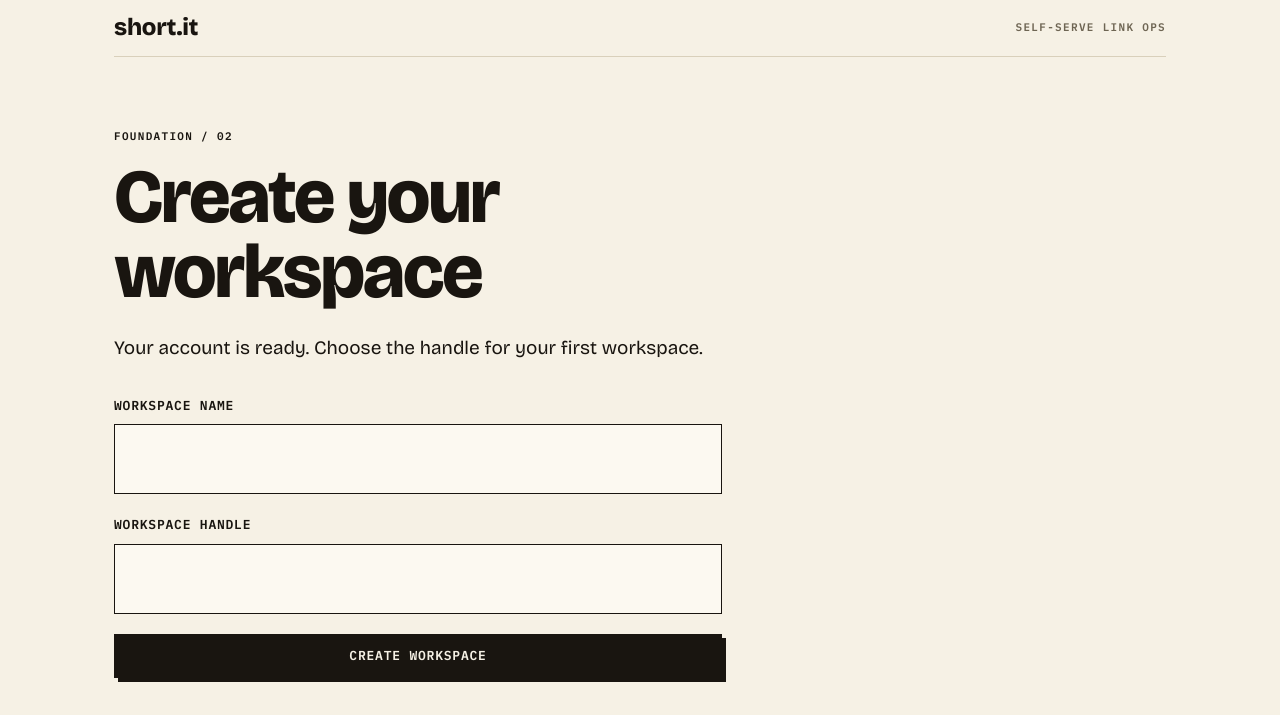
App › lets an authenticated user retry workspace creation after a recoverable failure
expect the heading "Create your workspace" is shown: met, box [114,151,499,318]
In the field labelled "Workspace name": coordinates (418, 459) [114,424,722,494], type "Ada Studio"
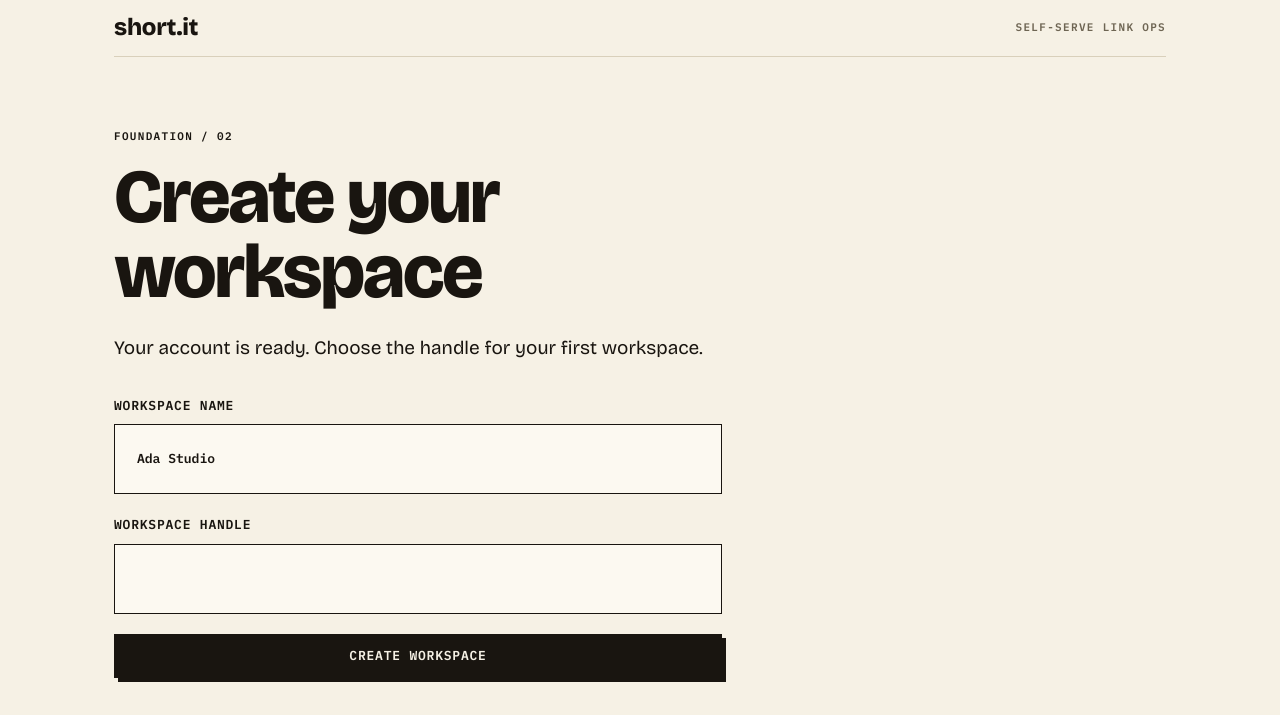
In the field labelled "Workspace handle": coordinates (418, 579) [114,544,722,614], type "app"
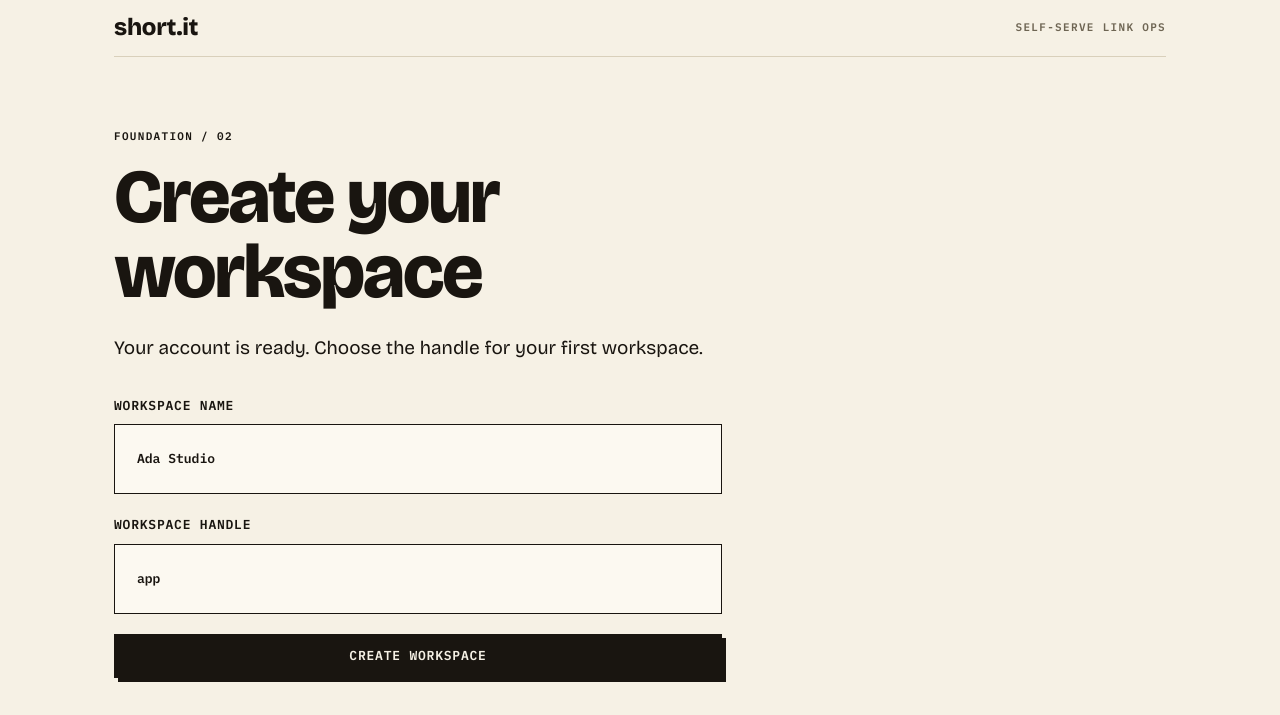
Submit the form "Create workspace", box [114,395,722,678]
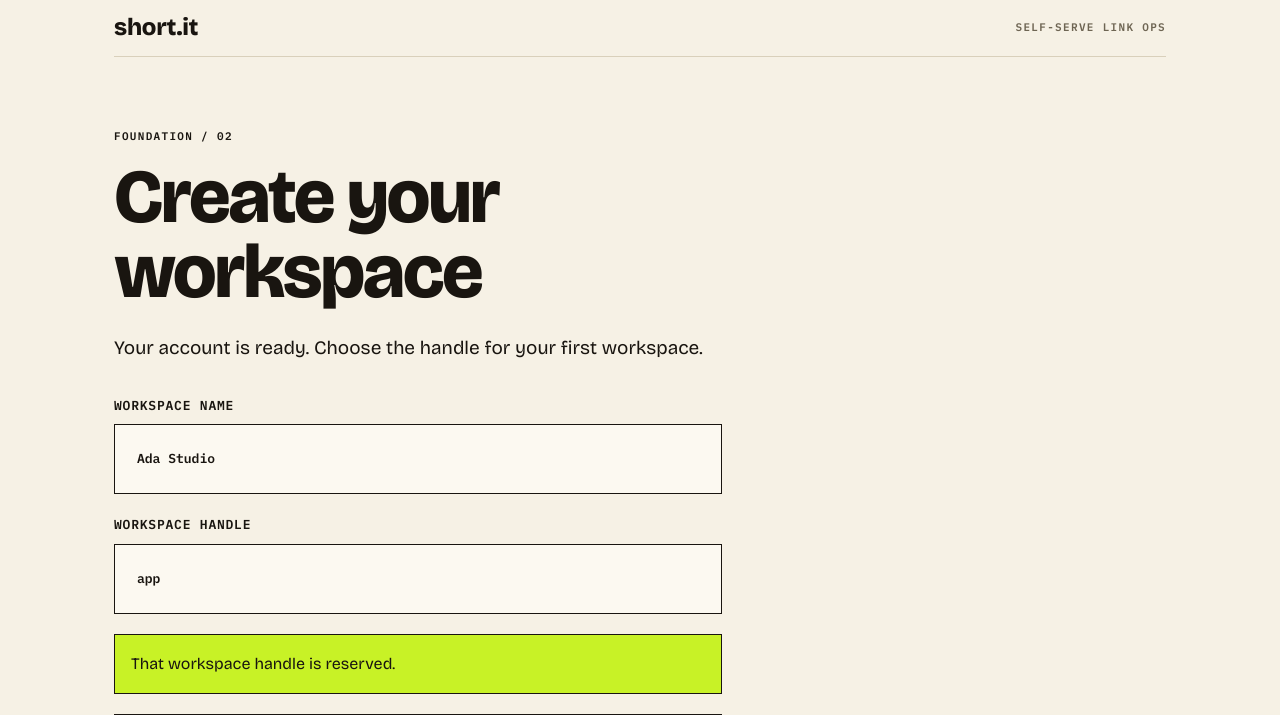
expect the message reads "That workspace handle is reserved.": met, box [131,654,395,673]
Replace the text in the field labelled "Workspace handle" with "ada": coordinates (418, 579) [114,544,722,614]
(page scrolled)
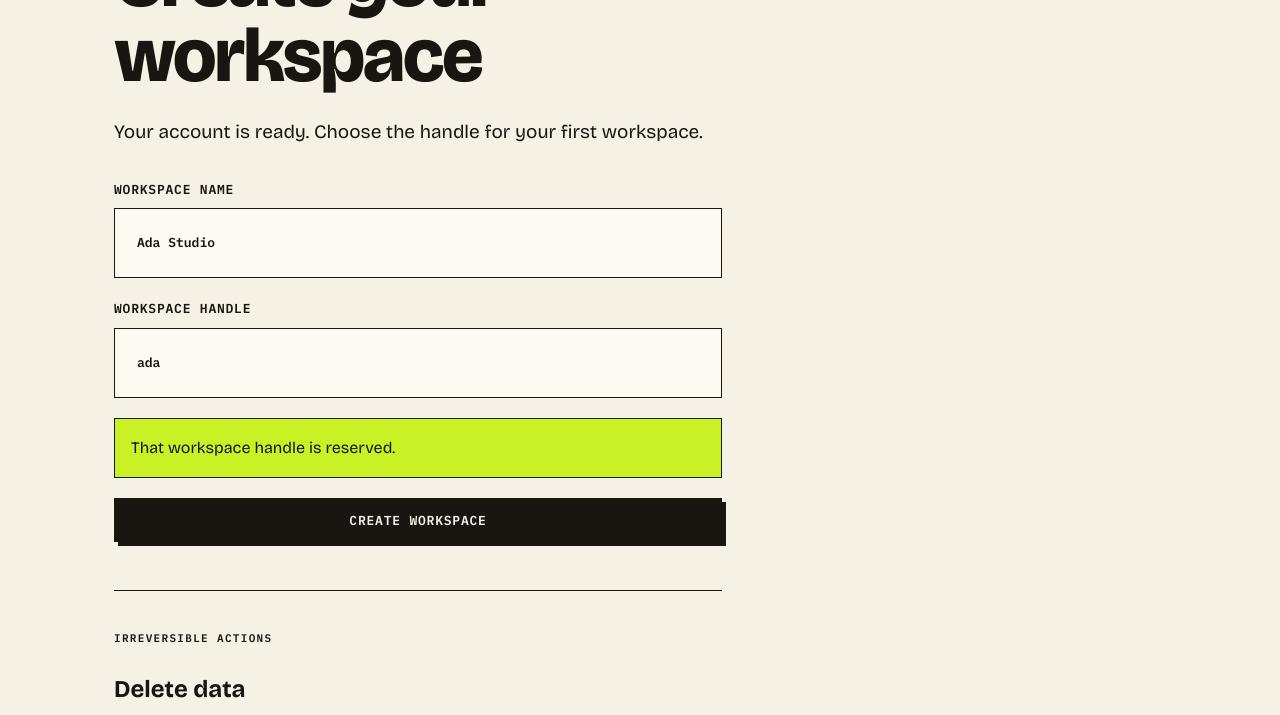
Submit the form named "Create workspace", box [114,179,722,542]
(page scrolled)
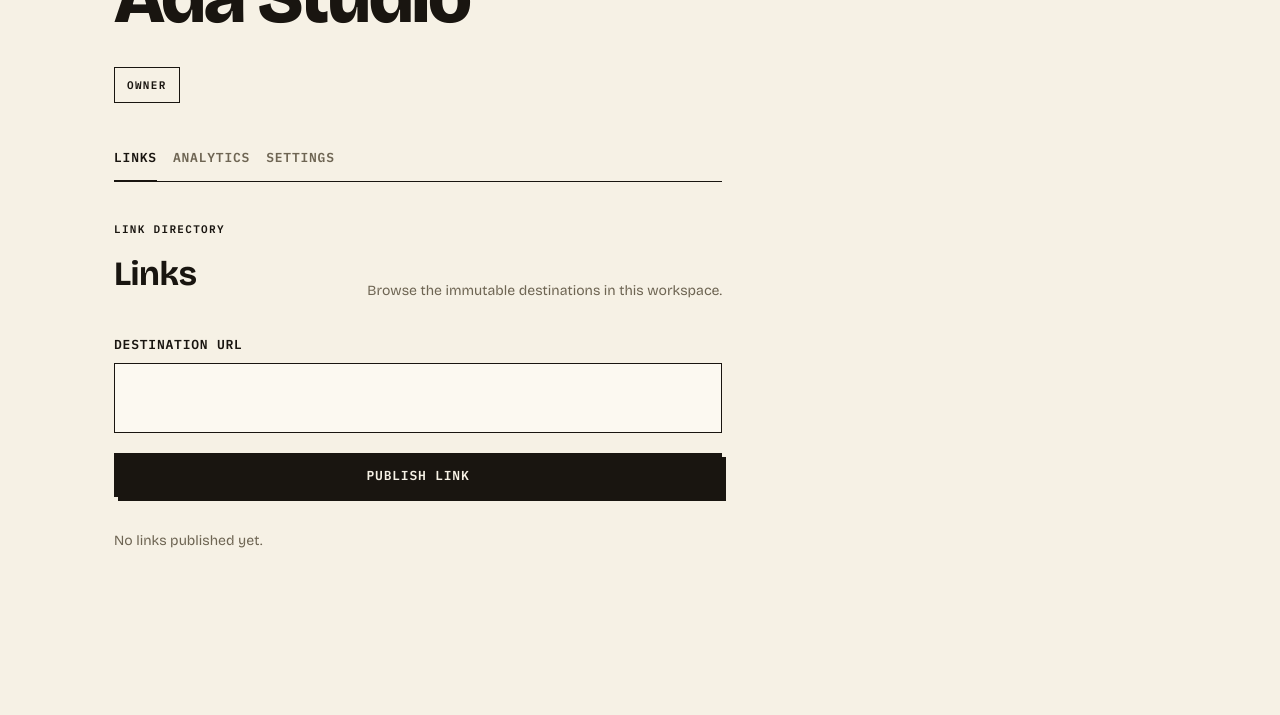
expect the text "Owner" is shown: met, box [114,67,180,103]
